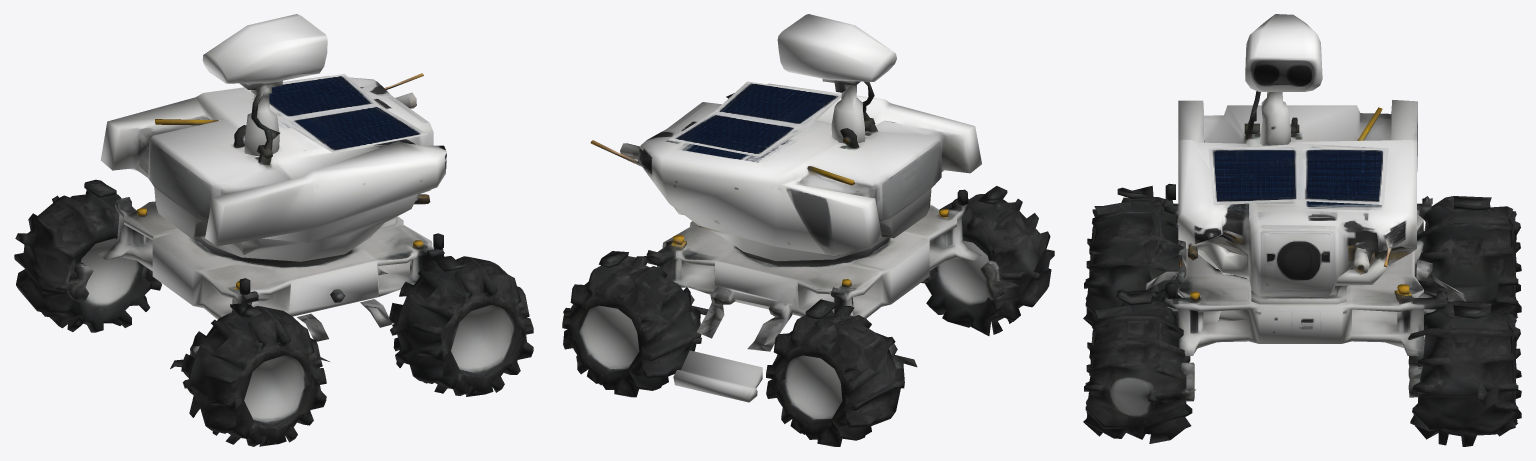
File: lunar-science-rover.glb
3 views of the same model, side by side, from view 1: azimuth 30°, elevation 25°; view 2: azimuth 150°, elevation 25°; view 3: azimuth 270°, elevation 25° (orthographic). The views are drawn at different scales.
Parts seen in each view (by area): view 1: tripo_node_77cb0caf-c81f-42e0-b7cf-995e1f238ea3; view 2: tripo_node_77cb0caf-c81f-42e0-b7cf-995e1f238ea3; view 3: tripo_node_77cb0caf-c81f-42e0-b7cf-995e1f238ea3.
Part boxes in pixels (bbox=[...]): tripo_node_77cb0caf-c81f-42e0-b7cf-995e1f238ea3: bbox=[14, 14, 533, 446]; tripo_node_77cb0caf-c81f-42e0-b7cf-995e1f238ea3: bbox=[562, 14, 1054, 446]; tripo_node_77cb0caf-c81f-42e0-b7cf-995e1f238ea3: bbox=[1083, 14, 1521, 446].
Bounding box in the file's own units: 0.9551 × 0.8574 × 0.998.
Materials: 1 (1 with a texture image).
